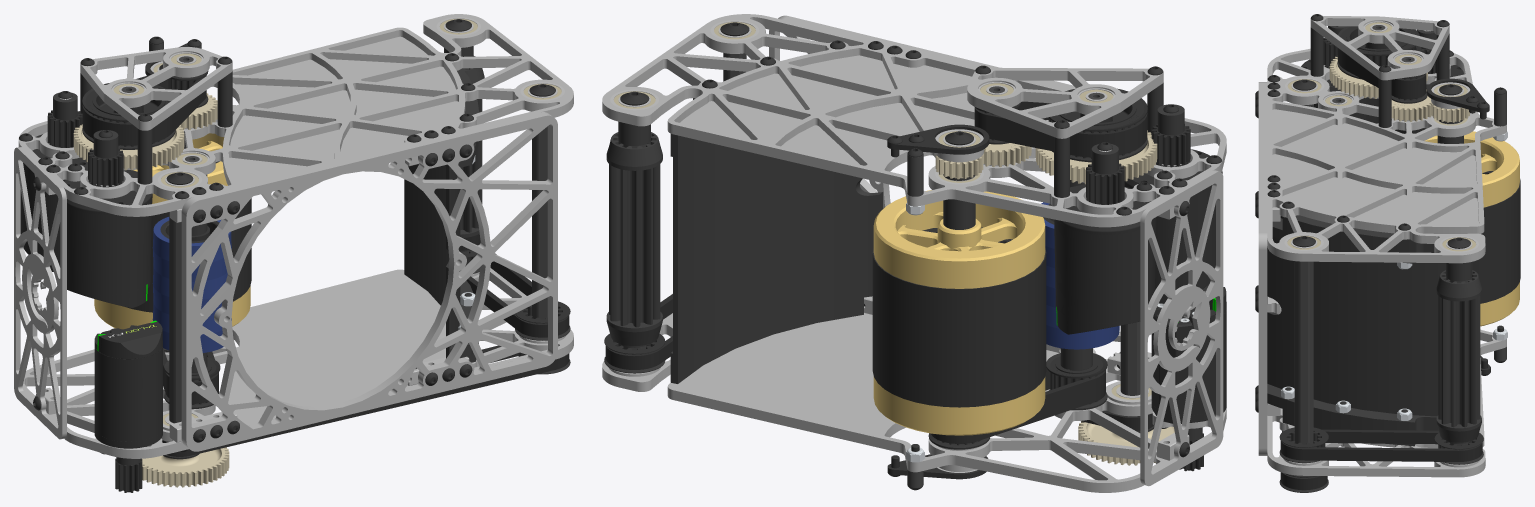
The picture shows the model from 3 angles, left to right: view 1: azimuth 30°, elevation 25°; view 2: azimuth 150°, elevation 25°; view 3: azimuth 270°, elevation 25°; orthographic projection. The views are drawn at different scales.
Visible parts, largest first — view 1: Part 3, Part 4, Part 2, Part 22, Kraken X60 Brushless Motor (×2), Kraken X44 Brushless Motor, Part 7, Part 5, 2" Stealth Wheel (50A, 1/2" Hex Bore) (×3), 8.062 in. Rounded Hex Shaft, 4" Brass Flywheel (1/2" Triangle Bore) (×2), 48t Pocketed Aluminum Spur Gear (20 DP, 1/2" Hex Bore) (+14 smaller); view 2: Part 3, Part 7, Part 2, 4" Solid Urethane Wheel (45A, 1.5" Wide, 1/2" Hex Bore) (×2), 4" Brass Flywheel (1/2" Triangle Bore) (×2), Part 22, Kraken X60 Brushless Motor (×2), Part 19, Part 5, 50T 5M 15mm Wide Belt, Kraken X44 Brushless Motor, 16t Steel Spur Gear (20 DP, SplineXS Bore) (×2) (+20 smaller); view 3: Part 3, Part 7, Part 19, Part 5, 65T 5M 9mm Wide Belt, Part 2, 4" Solid Urethane Wheel (45A, 1.5" Wide, 1/2" Hex Bore) (×2), Part 4, 7.563 in. Rounded Hex Shaft, 4" Brass Flywheel (1/2" Triangle Bore) (×2), 0.196" ID Custom Spacer (0.375" OD,1.5" L) (×3), 1/2" Rounded Hex (13.75mm) ID Bearing (1.125" OD, 0.313" WD, (×4) (+12 smaller).
Boxes of the visible parts, x1,y1,x2,y2 form: Part 3: [18, 14, 573, 216]; Part 4: [181, 112, 557, 451]; Part 2: [22, 268, 573, 458]; Part 22: [14, 147, 66, 439]; Kraken X60 Brushless Motor (×2): [20, 97, 152, 308]; Kraken X44 Brushless Motor: [94, 320, 162, 448]; Part 7: [404, 68, 478, 362]; Part 5: [80, 47, 232, 130]; 2" Stealth Wheel (50A, 1/2" Hex Bore) (×3): [152, 217, 231, 352]; 8.062 in. Rounded Hex Shaft: [169, 212, 181, 423]; 4" Brass Flywheel (1/2" Triangle Bore) (×2): [94, 133, 250, 329]; 48t Pocketed Aluminum Spur Gear (20 DP, 1/2" Hex Bore): [142, 447, 229, 487]; Part 3: [602, 14, 1226, 227]; Part 7: [670, 98, 882, 383]; Part 2: [602, 313, 1226, 492]; 4" Solid Urethane Wheel (45A, 1.5" Wide, 1/2" Hex Bore) (×2): [872, 227, 1046, 407]; 4" Brass Flywheel (1/2" Triangle Bore) (×2): [873, 190, 1045, 435]; Part 22: [1140, 170, 1223, 486]; Kraken X60 Brushless Motor (×2): [1054, 149, 1222, 334]; Part 19: [606, 132, 662, 345]; Part 5: [967, 67, 1163, 138]; 50T 5M 15mm Wide Belt: [974, 101, 1147, 157]; Kraken X44 Brushless Motor: [1151, 284, 1226, 423]; 16t Steel Spur Gear (20 DP, SplineXS Bore) (×2): [1086, 124, 1190, 204]; Part 3: [1267, 48, 1506, 263]; Part 7: [1267, 215, 1472, 446]; Part 19: [1436, 270, 1481, 442]; Part 5: [1310, 15, 1449, 80]; 65T 5M 9mm Wide Belt: [1280, 429, 1482, 461]; Part 2: [1267, 307, 1506, 477]; 4" Solid Urethane Wheel (45A, 1.5" Wide, 1/2" Hex Bore) (×2): [1473, 171, 1520, 303]; Part 4: [1258, 82, 1267, 455]; 7.563 in. Rounded Hex Shaft: [1294, 261, 1313, 444]; 4" Brass Flywheel (1/2" Triangle Bore) (×2): [1424, 131, 1519, 326]; 0.196" ID Custom Spacer (0.375" OD,1.5" L) (×3): [1310, 27, 1449, 127]; 1/2" Rounded Hex (13.75mm) ID Bearing (1.125" OD, 0.313" WD, (×4): [1284, 77, 1478, 252].
Bounding box in the file's own units: 0.3648 × 0.2584 × 0.1927.
